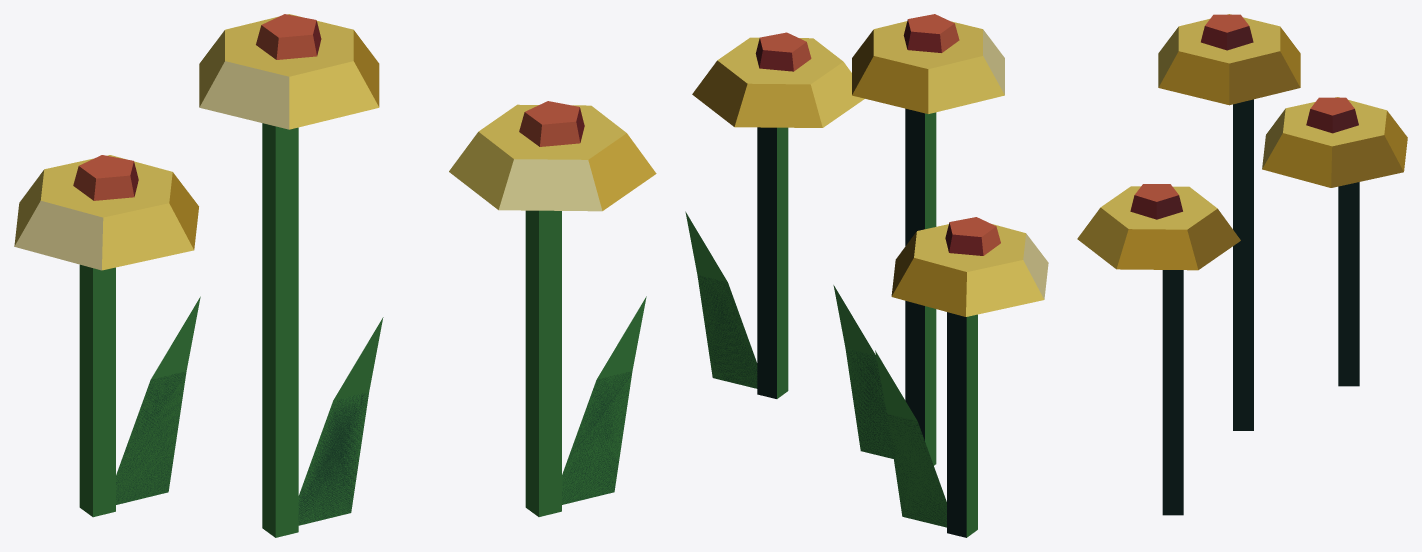
File: flower_yellow.glb
3 renders of one model, left to right at view 1: azimuth 30°, elevation 25°; view 2: azimuth 150°, elevation 25°; view 3: azimuth 270°, elevation 25°, orthographic. The views are drawn at different scales.
Parts seen in each view (by area): view 1: flower_yellow; view 2: flower_yellow; view 3: flower_yellow.
Part boxes in pixels (x1=…): flower_yellow: x1=14, y1=14, x2=656, y2=537; flower_yellow: x1=685, y1=14, x2=1048, y2=537; flower_yellow: x1=1077, y1=14, x2=1407, y2=515.
Bounding box in the file's own units: 0.4099 × 0.38 × 0.2822.
